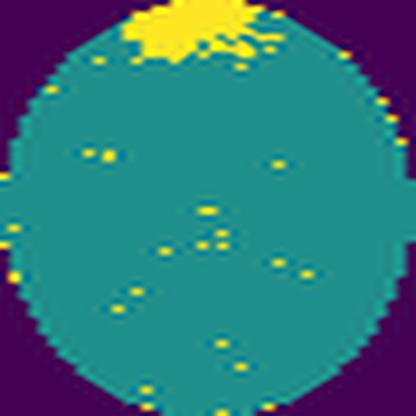Edge-Loc: (114, 0, 282, 70)
